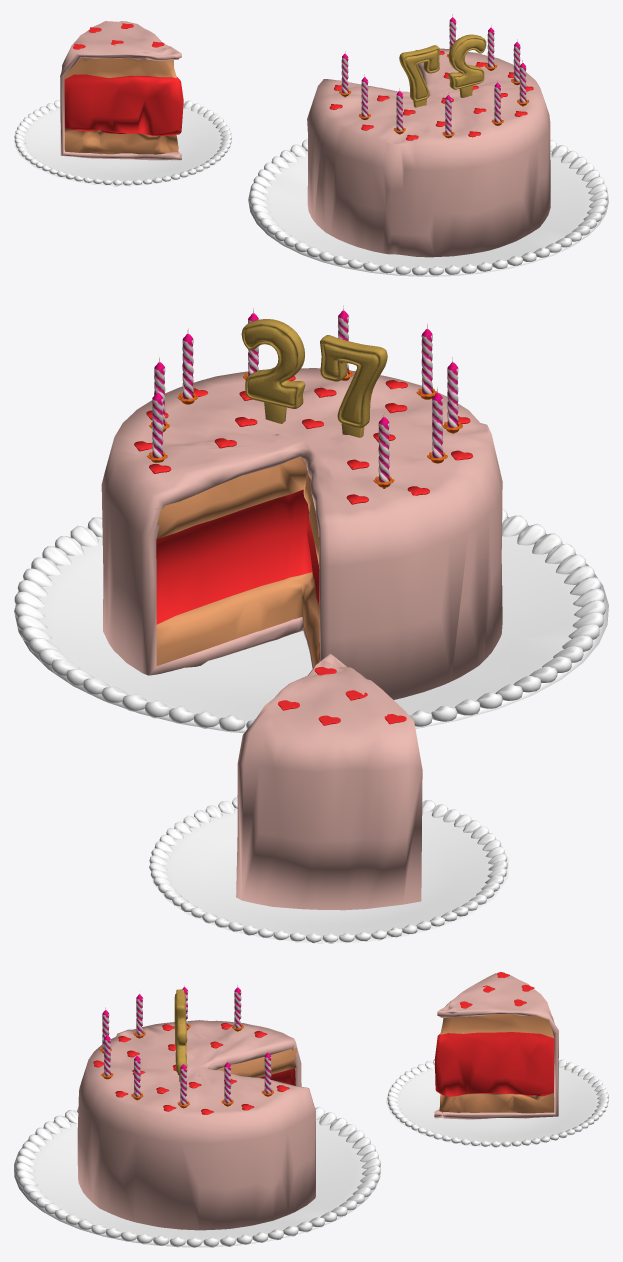
Rendered from heart-cake.glb.
The picture shows the model from 3 angles, top to bottom: view 1: azimuth 30°, elevation 25°; view 2: azimuth 150°, elevation 25°; view 3: azimuth 270°, elevation 25°; orthographic projection. The views are drawn at different scales.
Visible parts, largest first — view 1: cake2, cake1, 20812_Number_2_v1, 20817_Number_7_v1; view 2: cake2, cake1, 20812_Number_2_v1, 20817_Number_7_v1; view 3: cake2, cake1, 20812_Number_2_v1.
Boxes of the visible parts, bbox=[...] form: cake2: bbox=[248, 48, 608, 276]; cake1: bbox=[14, 21, 232, 186]; 20812_Number_2_v1: bbox=[448, 34, 486, 97]; 20817_Number_7_v1: bbox=[399, 45, 439, 107]; cake2: bbox=[14, 368, 608, 733]; cake1: bbox=[149, 653, 508, 943]; 20812_Number_2_v1: bbox=[241, 319, 305, 423]; 20817_Number_7_v1: bbox=[320, 335, 387, 437]; cake2: bbox=[14, 1020, 380, 1247]; cake1: bbox=[386, 972, 608, 1147]; 20812_Number_2_v1: bbox=[175, 1017, 187, 1081].
Bounding box in the file's own units: 2.6 × 1.12 × 3.21.
7 materials, 2 textured.
